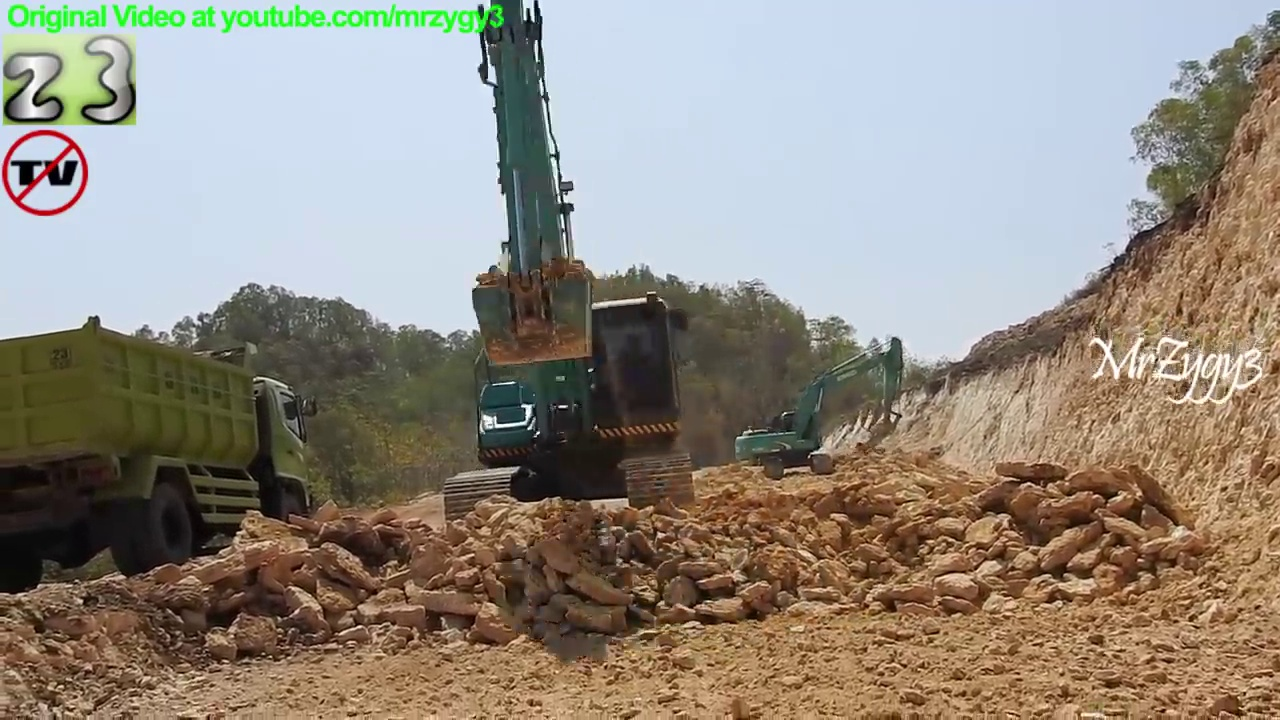excavator: (435, 1, 710, 540)
excavator breaker: (730, 333, 910, 482)
truck: (1, 313, 322, 599)
